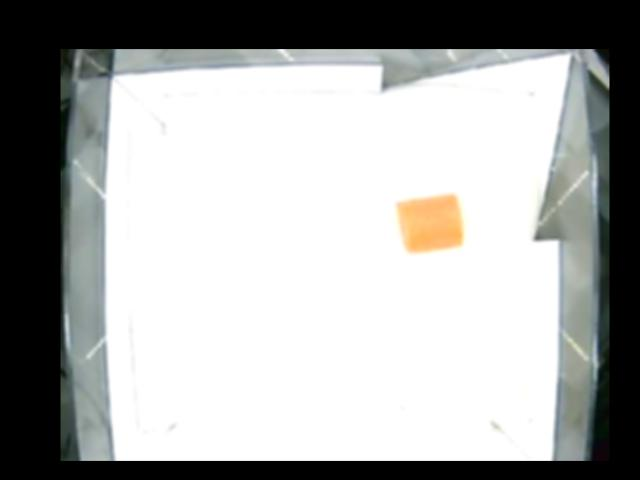Carrot: (393, 191, 462, 249)
